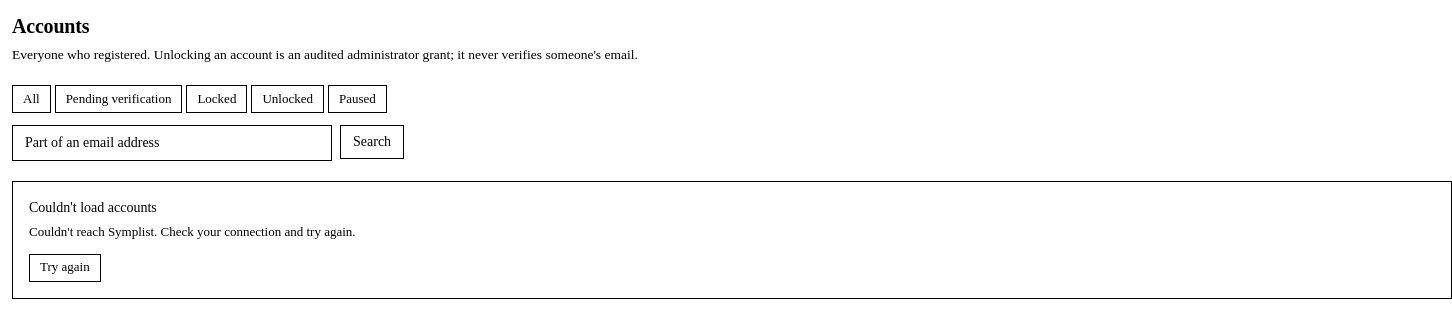
Test case: the account list (admin_accounts.md) › reports a failed load with a retry
The width and height of the screenshot is (1452, 316).
Expected: the text "Couldn't load accounts" is shown, [29,200,157,215]
Click the button "Try again" at (65, 268), box [29,254,101,282]
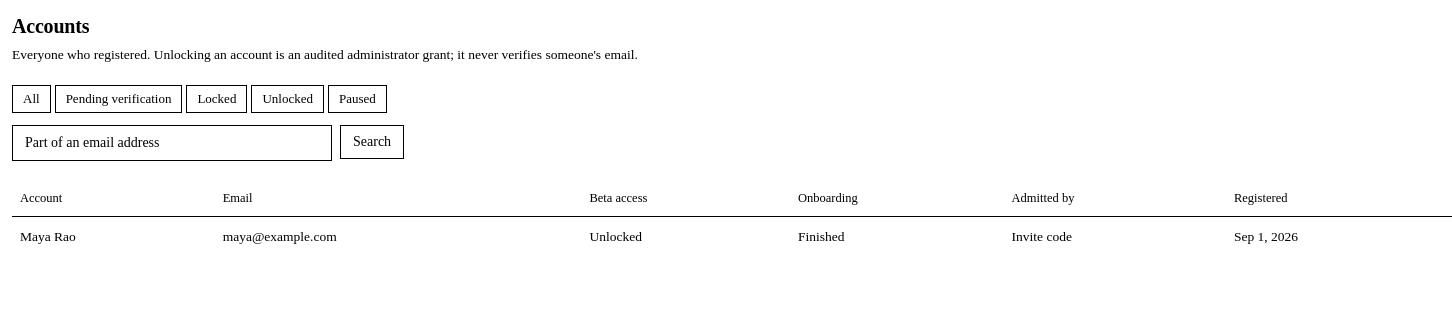
Now the link "Maya Rao" is shown, box [20,228,76,244]
